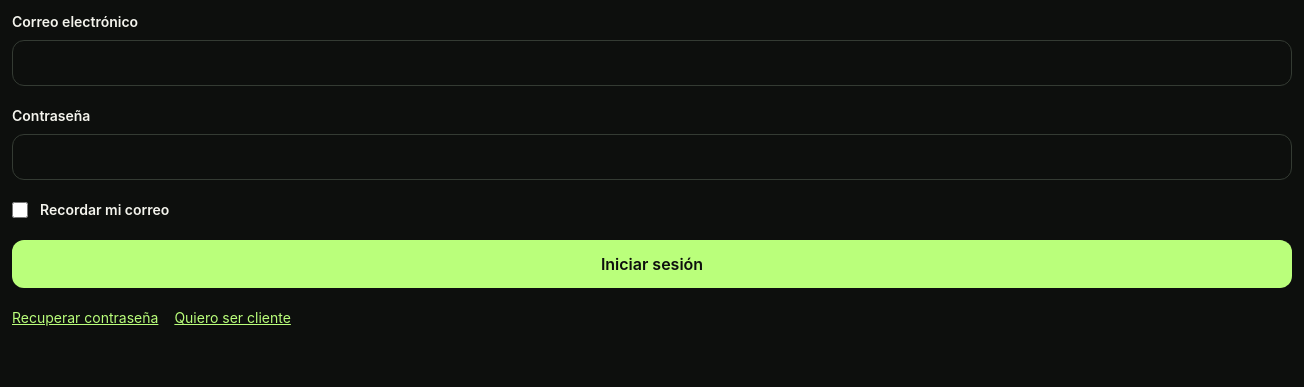
SignInForm remember email › does not store the email when the sign-in fails
The width and height of the screenshot is (1304, 387).
Click the checkbox labelled "Recordar mi correo" at (20, 210), box [12,202,28,218]
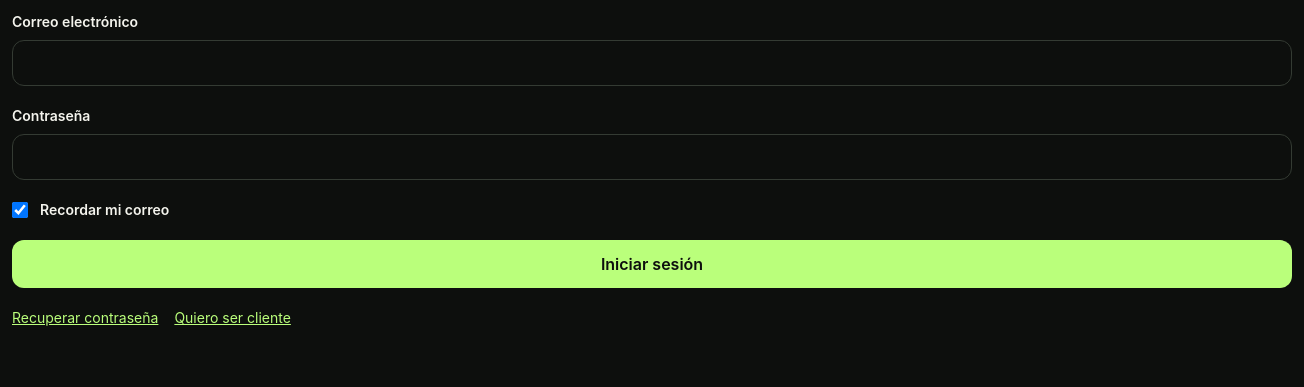
Type "ana@example.com" into the field labelled "Correo electrónico" at (652, 63), box [12,40,1292,86]
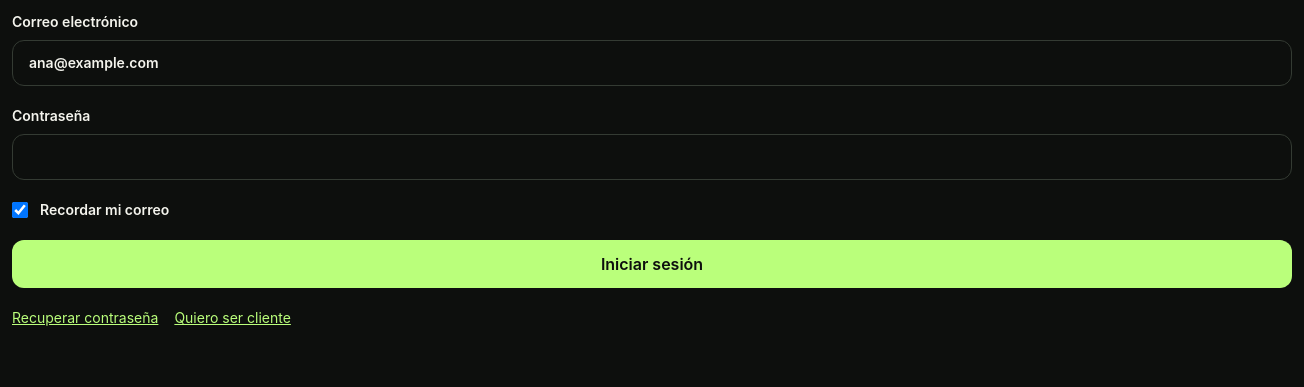
Type "mala" into the password field labelled "Contraseña" at (652, 157), box [12,134,1292,180]
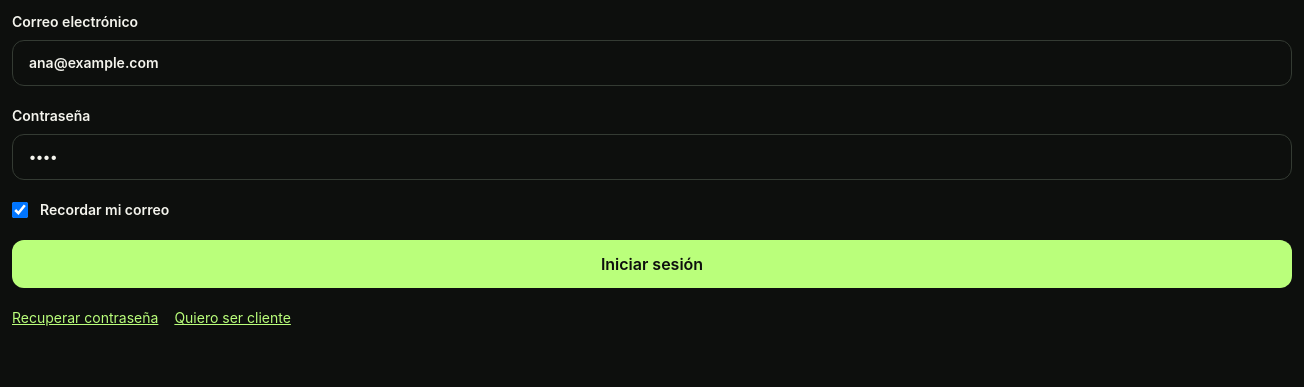
Click the button "Iniciar sesión" at (652, 264), box [12,240,1292,288]
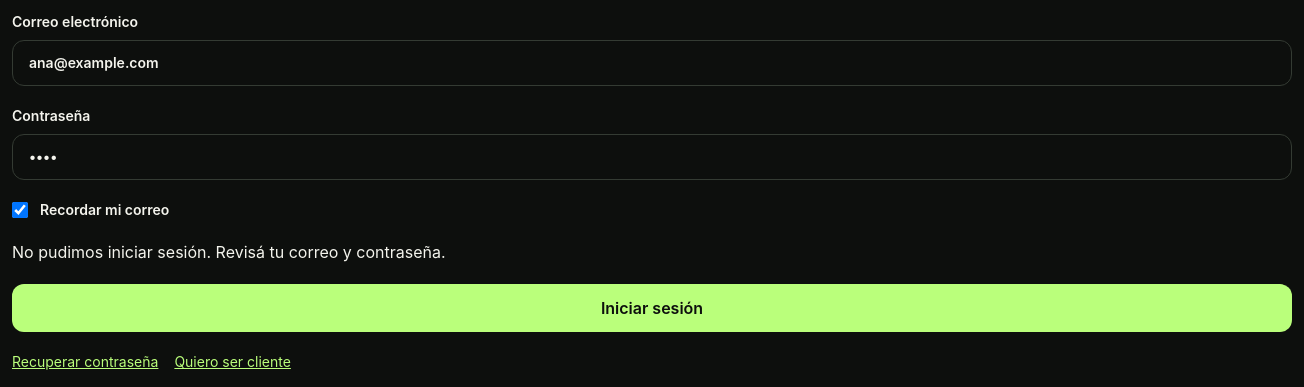
expect the text "No pudimos iniciar sesión. Revisá tu correo y contraseña." is shown: met, box [12,242,446,262]
